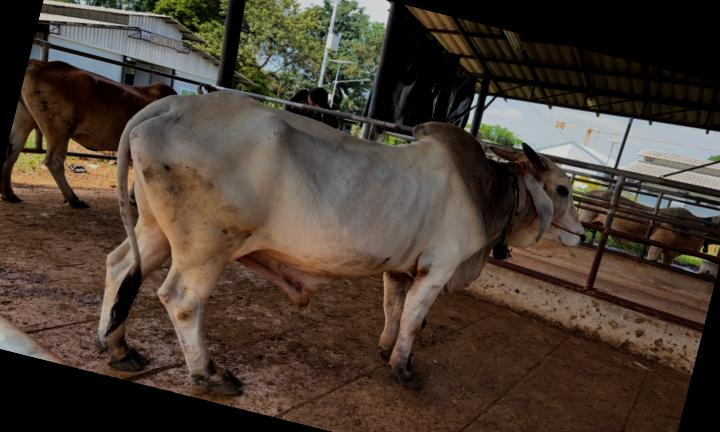Brahman: (97, 91, 583, 394)
